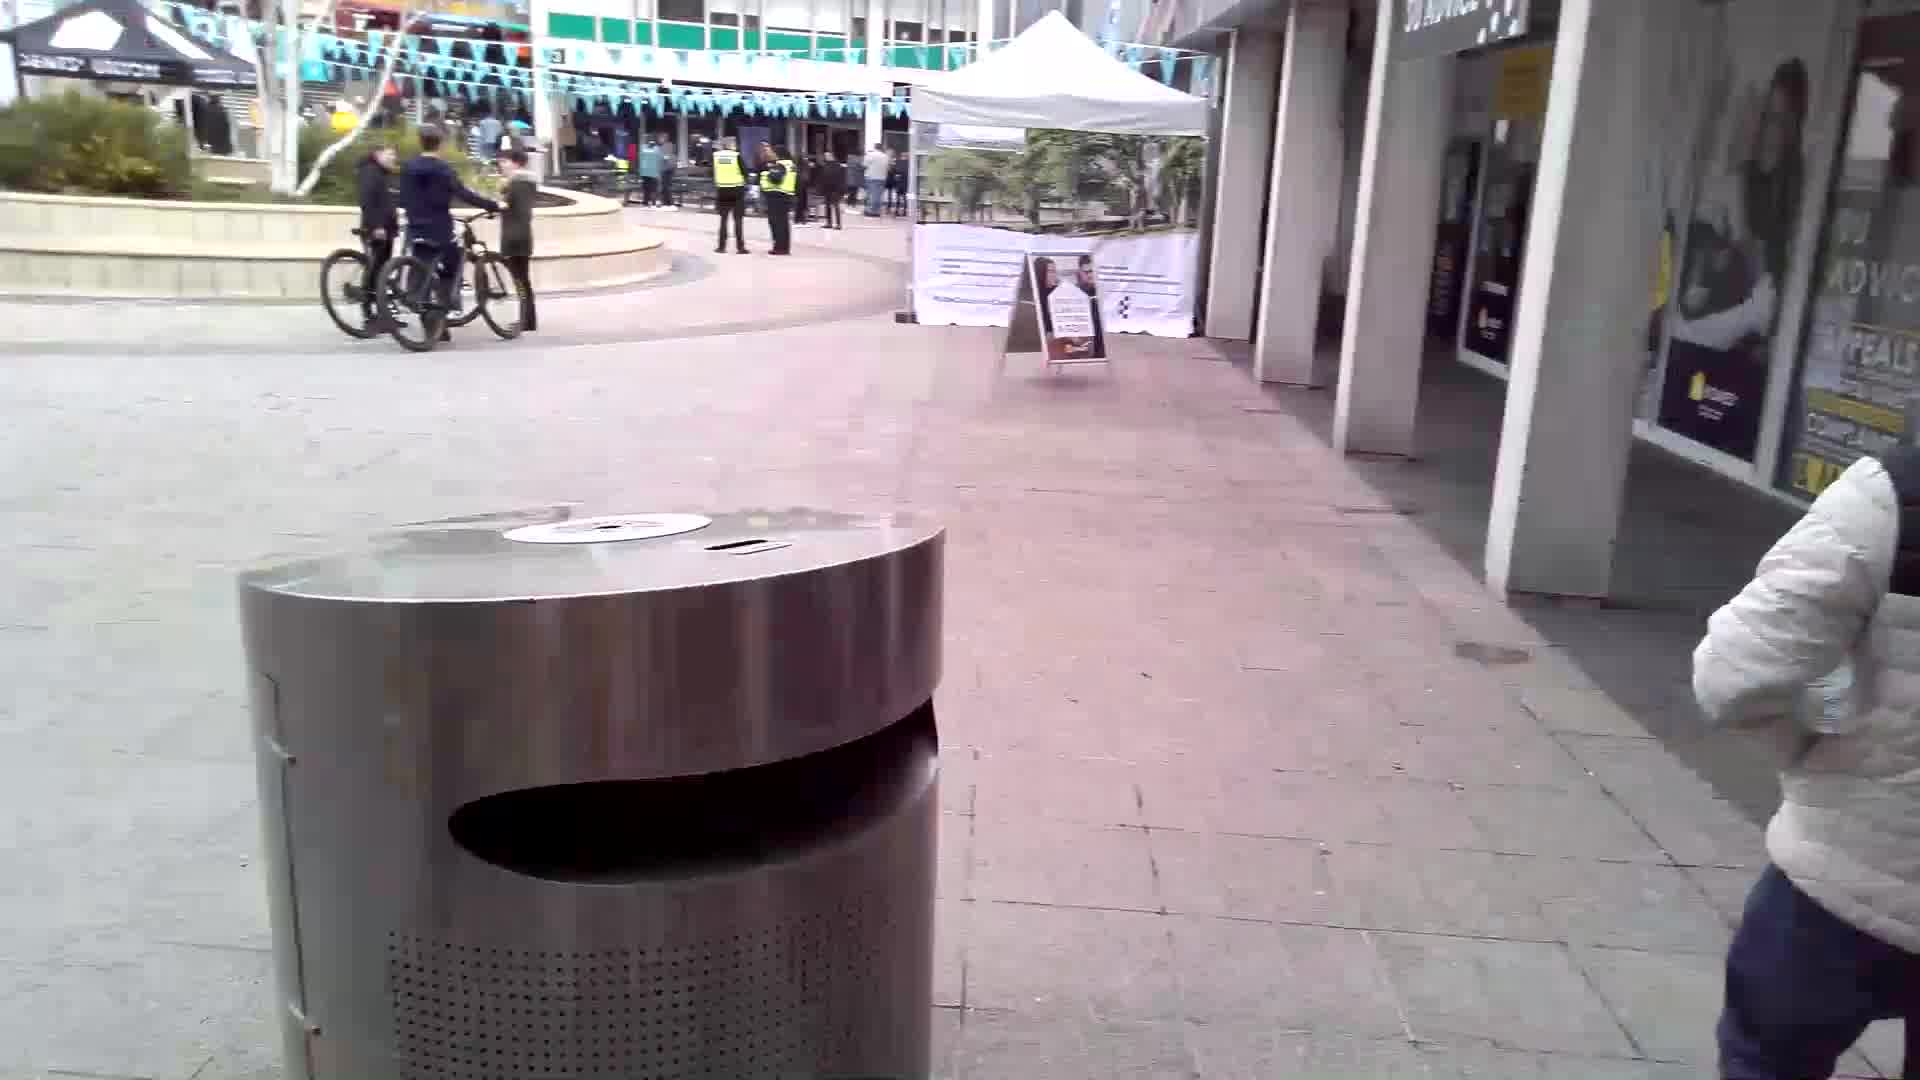Bin: (225, 505, 957, 1080)
Person: (409, 119, 465, 361), (492, 146, 545, 334), (357, 138, 398, 319), (713, 135, 744, 253)
